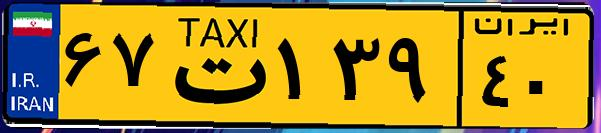0: (525, 38, 570, 115)
1: (270, 28, 330, 110)
3: (330, 28, 385, 110)
4: (475, 38, 525, 113)
6: (57, 26, 110, 100)
7: (110, 28, 158, 98)
9: (385, 28, 445, 110)
ت: (158, 12, 270, 120)
